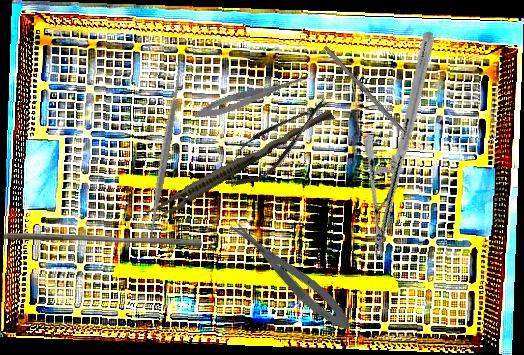Micro Scissor: (225, 212, 358, 338), (213, 84, 340, 200), (191, 66, 313, 125)
Needle Holder: (319, 30, 488, 259)
Pusher: (322, 45, 425, 154), (2, 232, 203, 247)
Spatula Surgical: (138, 57, 192, 247)
Tissue Forceps: (145, 102, 335, 227)
